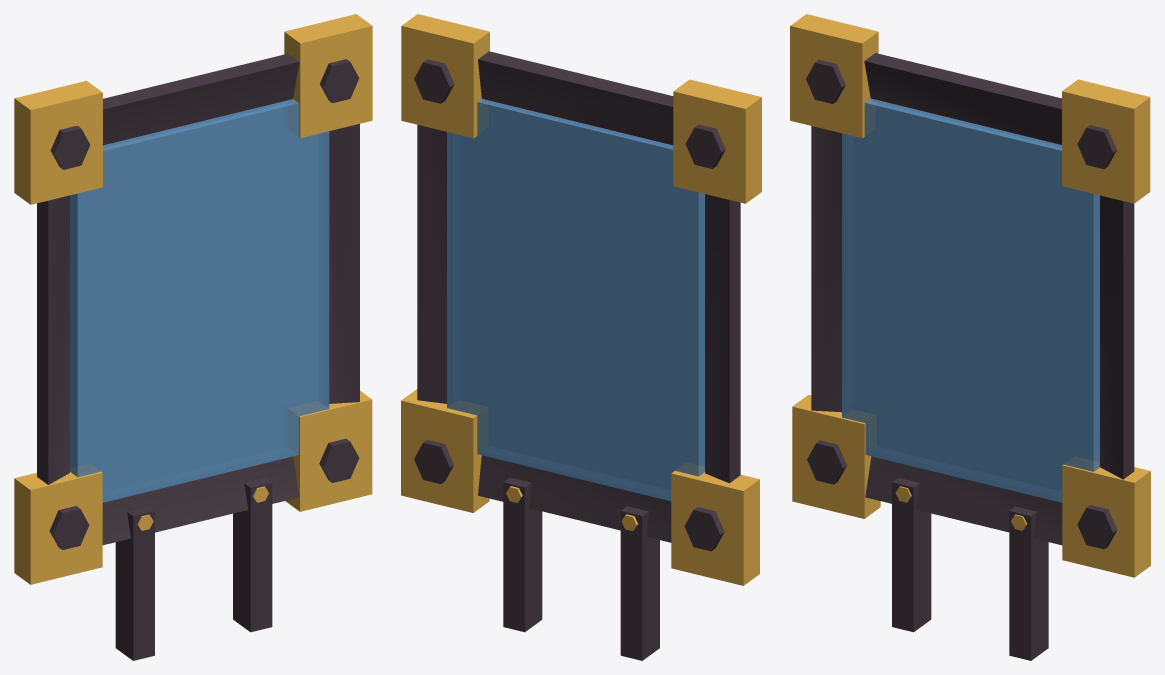
File: mirror.fbx
3 renders of one model, left to right at view 1: azimuth 30°, elevation 25°; view 2: azimuth 150°, elevation 25°; view 3: azimuth 330°, elevation 25°, orthographic.
Visible parts, largest first — view 1: mirror; view 2: mirror; view 3: mirror.
Boxes of the visible parts, x1,y1,x2,y2 form: mirror: [14, 14, 372, 660]; mirror: [401, 14, 761, 660]; mirror: [790, 14, 1150, 660].
Bounding box in the file's own units: 284 × 456 × 36.9.
